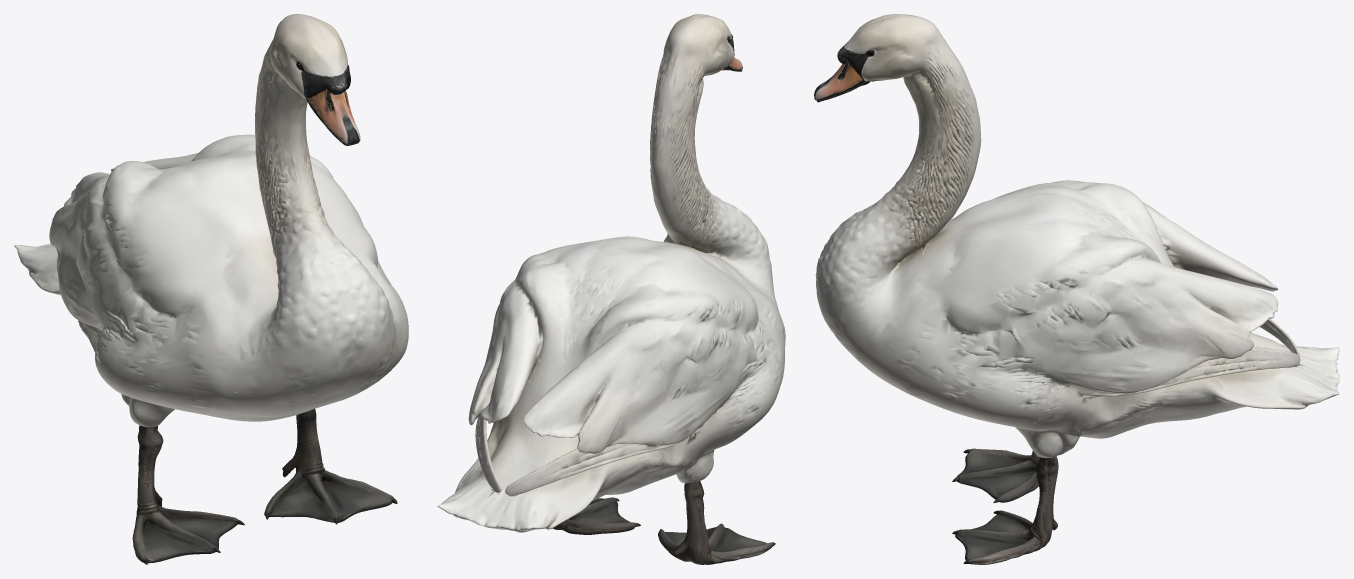
File: swan-web.glb
3 renders of one model, left to right at view 1: azimuth 30°, elevation 25°; view 2: azimuth 150°, elevation 25°; view 3: azimuth 270°, elevation 25°, orthographic. The views are drawn at different scales.
Parts seen in each view (by area): view 1: tripo_node_9af9ca59-0c93-45cb-b98d-3021075ad5e7; view 2: tripo_node_9af9ca59-0c93-45cb-b98d-3021075ad5e7; view 3: tripo_node_9af9ca59-0c93-45cb-b98d-3021075ad5e7.
Part boxes in pixels (left/top/right/bottom): tripo_node_9af9ca59-0c93-45cb-b98d-3021075ad5e7: left=14, top=14, right=408, bottom=564; tripo_node_9af9ca59-0c93-45cb-b98d-3021075ad5e7: left=437, top=14, right=785, bottom=564; tripo_node_9af9ca59-0c93-45cb-b98d-3021075ad5e7: left=814, top=14, right=1339, bottom=564.
Size of the model in its own units: 0.5308 by 0.979 by 0.9415.
Materials: 1 (1 with a texture image).
